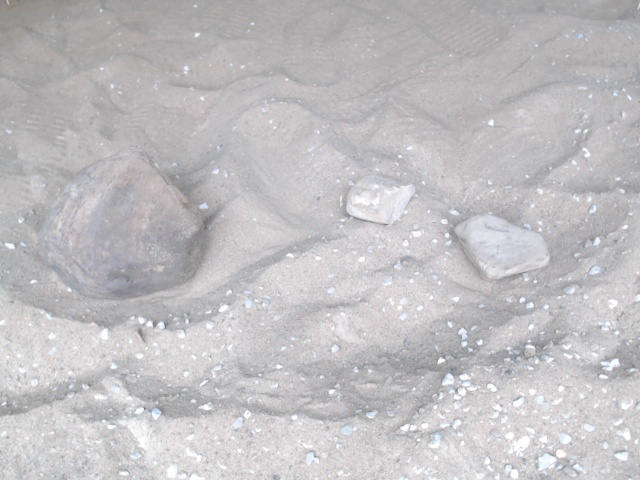rock: (32, 137, 212, 306), (449, 207, 553, 287), (341, 169, 420, 230)
